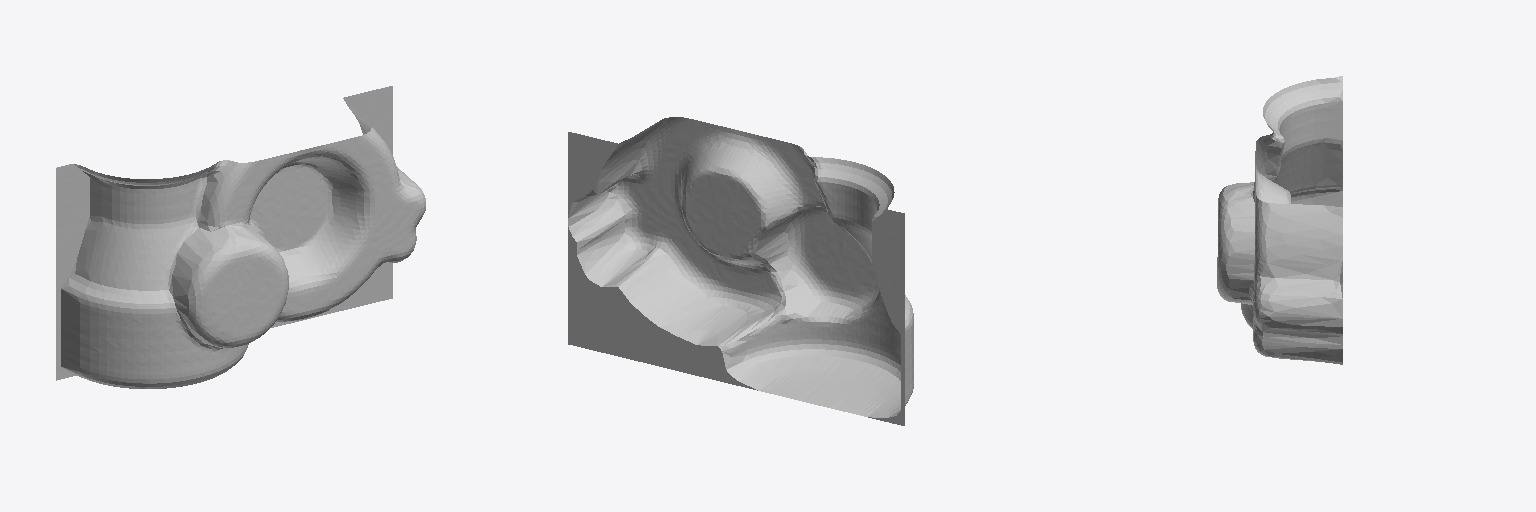
Rendered from tiny_stamp.obj.
3 renders of one model, left to right at view 1: azimuth 30°, elevation 25°; view 2: azimuth 150°, elevation 25°; view 3: azimuth 270°, elevation 25°, orthographic.
Size of the model in its own units: 81 by 49.06 by 26.19.